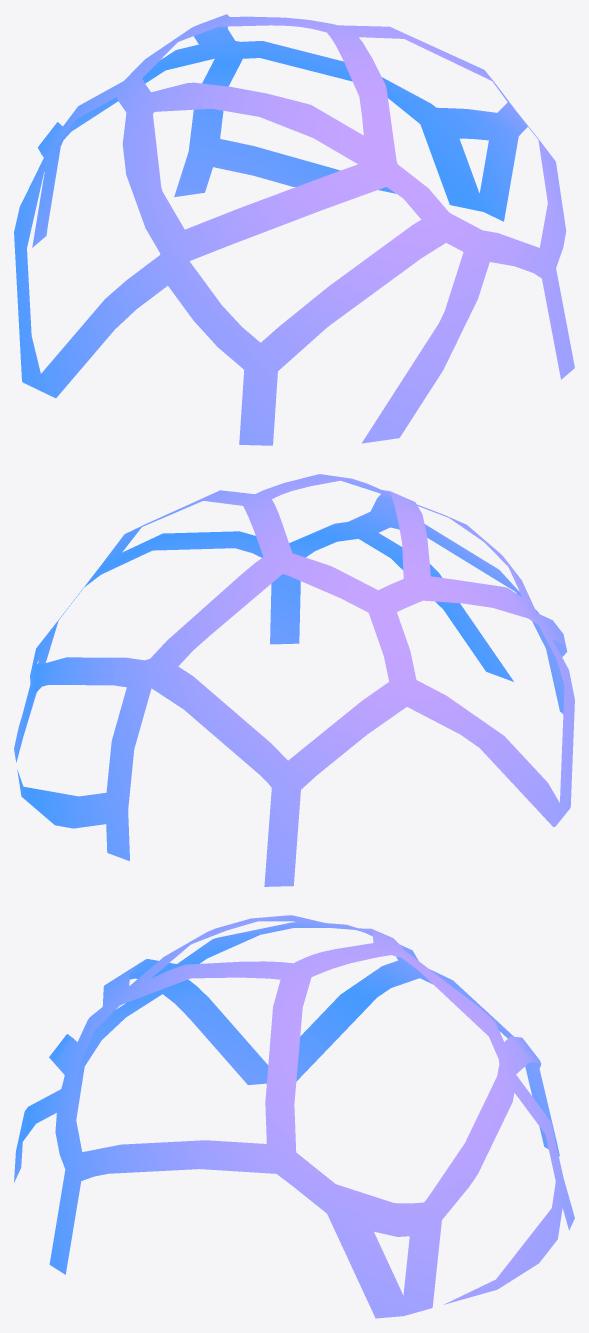
The model's file is cage2.fbx.
3 views of the same model, one above another, from view 1: azimuth 30°, elevation 25°; view 2: azimuth 150°, elevation 25°; view 3: azimuth 270°, elevation 25° (orthographic). The views are drawn at different scales.
Visible parts, largest first — view 1: Sphere_fracturepart1; view 2: Sphere_fracturepart1; view 3: Sphere_fracturepart1.
Boxes of the visible parts, bbox=[...] form: Sphere_fracturepart1: bbox=[14, 14, 574, 445]; Sphere_fracturepart1: bbox=[14, 474, 574, 886]; Sphere_fracturepart1: bbox=[14, 915, 574, 1318].
Size of the model in its own units: 86.42 by 43.64 by 86.4.
